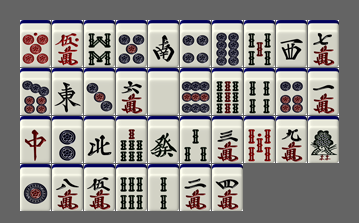0m: (52, 20, 83, 67)
0p: (20, 20, 51, 67)
0s: (244, 116, 275, 163)
1m: (308, 68, 339, 115)
1p: (20, 164, 51, 211)
1s: (308, 116, 339, 163)
1z: (52, 68, 83, 115)
2m: (180, 164, 211, 211)
2p: (52, 116, 83, 163)
2s: (148, 164, 179, 211)
2z: (148, 20, 179, 67)
3m: (212, 116, 243, 163)
3p: (84, 68, 115, 115)
3s: (180, 116, 211, 163)
3z: (276, 20, 307, 67)
4m: (212, 164, 243, 211)
4p: (180, 20, 211, 67)
4s: (244, 68, 275, 115)
4z: (84, 116, 115, 163)
5m: (84, 164, 115, 211)
5p: (116, 20, 147, 67)
5s: (244, 20, 275, 67)
5z: (148, 68, 179, 115)
6m: (116, 68, 147, 115)
6p: (276, 68, 307, 115)
6s: (116, 164, 147, 211)
6z: (148, 116, 179, 163)
7m: (308, 20, 339, 67)
7p: (20, 68, 51, 115)
7s: (116, 116, 147, 163)
7z: (20, 116, 51, 163)
8m: (52, 164, 83, 211)
8p: (212, 20, 243, 67)
8s: (84, 20, 115, 67)
9m: (276, 116, 307, 163)
9p: (180, 68, 211, 115)
9s: (212, 68, 243, 115)
